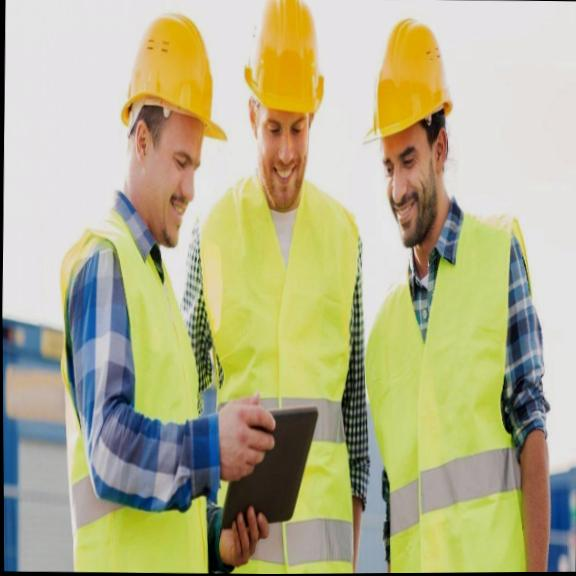safety_vest: (368, 212, 535, 573), (212, 180, 362, 574), (62, 216, 211, 574)
